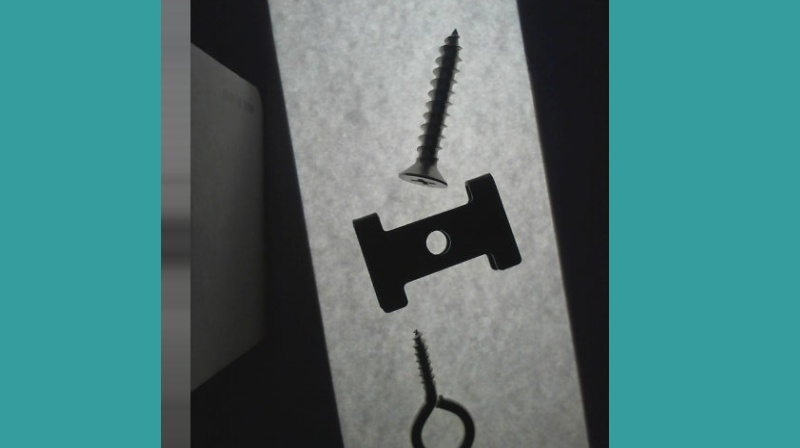O001: (407, 326, 476, 447)
O002: (353, 168, 522, 312)
S001: (398, 27, 462, 192)
